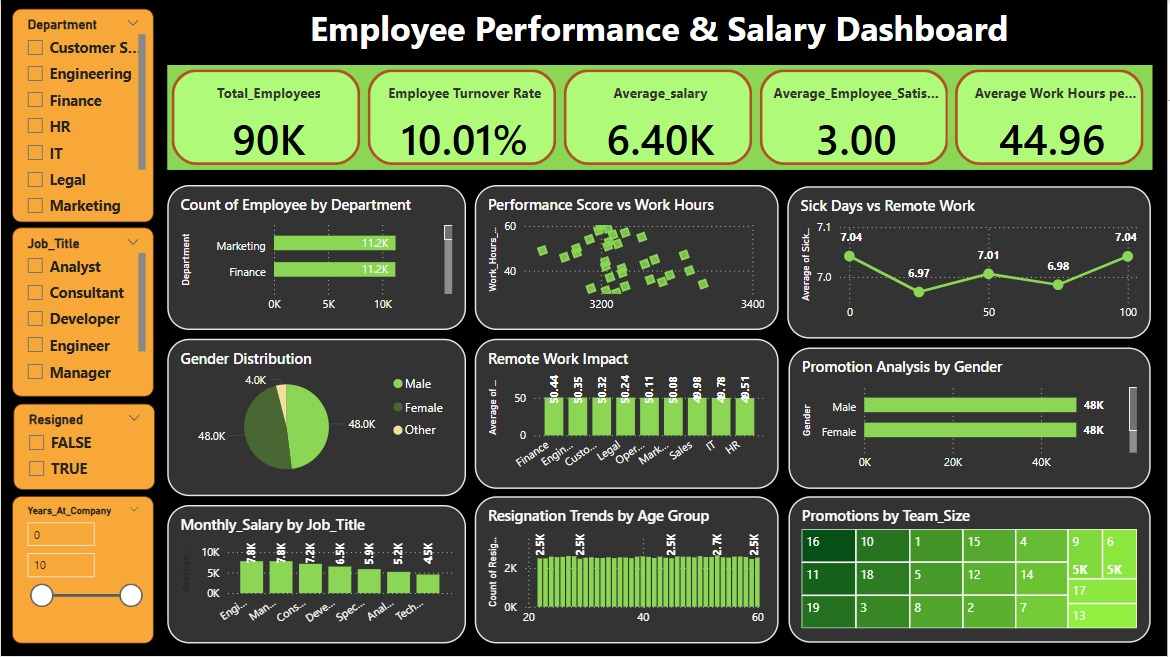

Layout of this report page (visuals, bound fields, positions):
{"tool":"powerbi","page":{"name":"Page 1","canvas":[1280,720],"ordinal":0},"visuals":[{"type":"slicer","fields":{"Values":["job job.Department"]},"box":[12.3,9.6,155.1,234.6],"z":0},{"type":"slicer","fields":{"Values":["job job.Job_Title"]},"box":[12.3,249.7,155.1,185.2],"z":1000},{"type":"slicer","fields":{"Values":["job job.Resigned"]},"box":[13.7,443.2,155.1,94.7],"z":2000},{"type":"slicer","fields":{"Values":["job job.Years_At_Company"]},"box":[12.3,544.8,155.1,161.9],"z":3000},{"type":"cardVisual","fields":{"Data":["job job.Total_Employees","job job.Employee Turnover Rate","job job.Average_salary","job job.Average_Employee_Satisfaction_Score","job job.Average Work Hours per Week"]},"box":[182.5,71.4,1081.3,115.3],"z":4000},{"type":"barChart","title":"Count of Employee by Department","fields":{"Category":["job job.Department"],"Y":["CountNonNull(job job.Employee_ID)"]},"box":[182.5,203.1,328,159.2],"z":5000},{"type":"pieChart","title":"Gender Distribution","fields":{"Category":["job job.Gender"],"Y":["CountNonNull(job job.Gender)"]},"box":[182.5,371.9,328,172.9],"z":6000},{"type":"clusteredColumnChart","title":"Monthly_Salary by Job_Title","fields":{"Y":["Avg(job job.Monthly_Salary)"],"Category":["job job.Job_Title"]},"box":[182.5,554.4,328,152.3],"z":7000},{"type":"scatterChart","title":"Performance Score vs Work Hours","fields":{"X":["CountNonNull(job job.Performance_Score)"],"Y":["job job.Work_Hours_Per_Week"]},"box":[520.1,203.1,333.4,159.2],"z":8000},{"type":"clusteredColumnChart","title":"Remote Work Impact","fields":{"Y":["Avg(job job.Remote_Work_Frequency)"],"Category":["job job.Department"]},"box":[520.1,371.9,333.4,164.7],"z":9000},{"type":"clusteredColumnChart","title":"Resignation Trends by Age Group","fields":{"Y":["CountNonNull(job job.Resigned)"],"Category":["job job.Age"]},"box":[520.1,544.8,333.4,161.9],"z":10000},{"type":"lineChart","title":"Sick Days vs Remote Work","fields":{"Y":["Avg(job job.Sick_Days)"],"Category":["job job.Remote_Work_Frequency"]},"box":[863.1,204.5,399.3,167.4],"z":11000},{"type":"barChart","title":"Promotion Analysis by Gender","fields":{"Category":["job job.Gender"],"Y":["CountNonNull(job job.Promotions)"]},"box":[864.5,381.5,397.9,155.1],"z":12000},{"type":"treemap","title":"Promotions by Team_Size","fields":{"Values":["Sum(job job.Promotions)"],"Group":["job job.Team_Size"]},"box":[864.5,544.8,397.9,160.5],"z":13000},{"type":"textbox","box":[182.5,0,1079.9,71.4],"z":14000}]}

Visuals, with their boxes in screenshot pixels (x1, y1, x2, y2), scaled from the page's 1280x720 canvas onto the 1170x657 screenshot:
slicer - job job.Department: <region>11, 9, 153, 223</region>
slicer - job job.Job_Title: <region>11, 228, 153, 397</region>
slicer - job job.Resigned: <region>13, 404, 154, 491</region>
slicer - job job.Years_At_Company: <region>11, 497, 153, 645</region>
cardVisual - job job.Total_Employees x job job.Employee Turnover Rate: <region>167, 65, 1155, 170</region>
"Count of Employee by Department" barChart: <region>167, 185, 467, 331</region>
"Gender Distribution" pieChart: <region>167, 339, 467, 497</region>
"Monthly_Salary by Job_Title" clusteredColumnChart: <region>167, 506, 467, 645</region>
"Performance Score vs Work Hours" scatterChart: <region>475, 185, 780, 331</region>
"Remote Work Impact" clusteredColumnChart: <region>475, 339, 780, 490</region>
"Resignation Trends by Age Group" clusteredColumnChart: <region>475, 497, 780, 645</region>
"Sick Days vs Remote Work" lineChart: <region>789, 187, 1154, 339</region>
"Promotion Analysis by Gender" barChart: <region>790, 348, 1154, 490</region>
"Promotions by Team_Size" treemap: <region>790, 497, 1154, 644</region>
textbox: <region>167, 0, 1154, 65</region>
